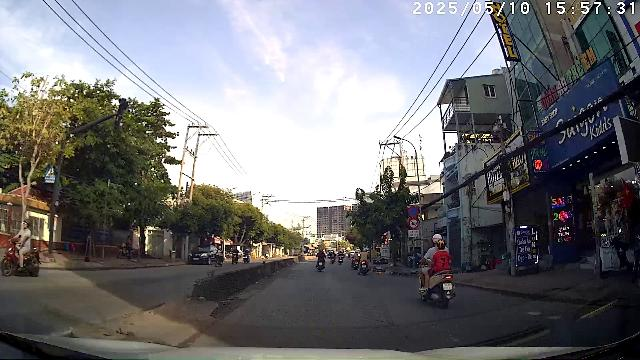131a-cam-do-xe: (408, 205, 419, 217)
